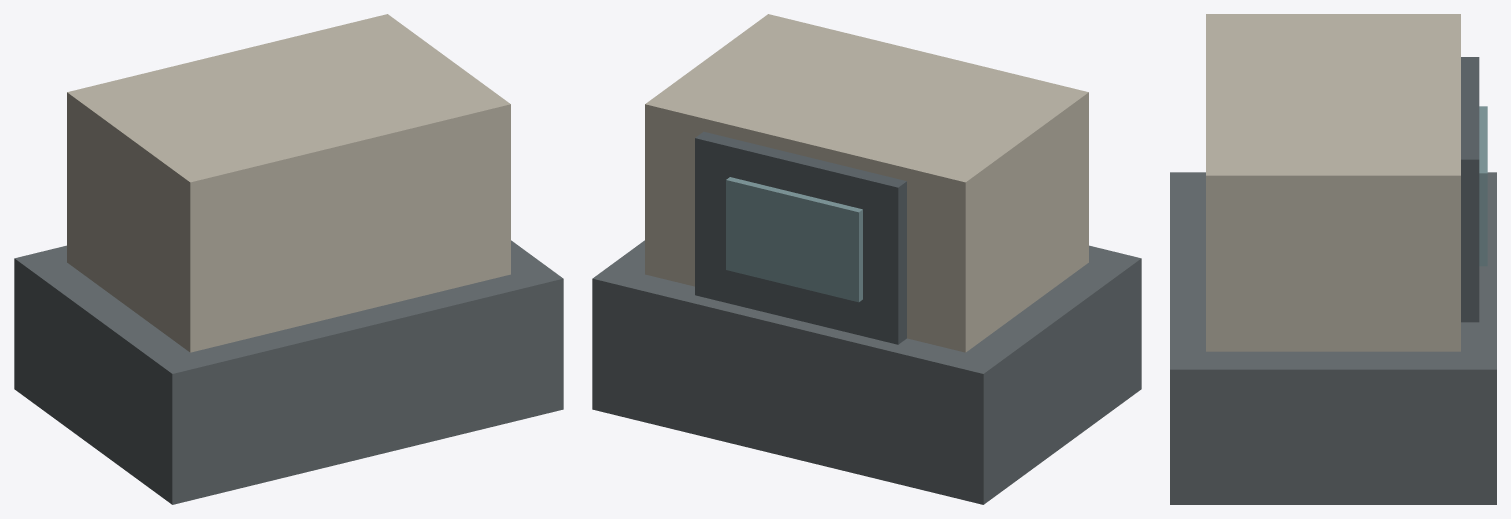
The model's file is iz3_military_crate_01.glb.
3 renders of one model, left to right at view 1: azimuth 30°, elevation 25°; view 2: azimuth 150°, elevation 25°; view 3: azimuth 270°, elevation 25°, orthographic. The views are drawn at different scales.
Visible parts, largest first — view 1: cabinet, base; view 2: base, cabinet, panel, display; view 3: cabinet, base, panel, display.
Boxes of the visible parts, left/top/right/bottom form: cabinet: left=67, top=14, right=510, bottom=352; base: left=14, top=240, right=563, bottom=504; base: left=592, top=240, right=1141, bottom=504; cabinet: left=645, top=14, right=1088, bottom=352; panel: left=695, top=131, right=906, bottom=344; display: left=726, top=177, right=862, bottom=302; cabinet: left=1206, top=14, right=1460, bottom=351; base: left=1170, top=172, right=1496, bottom=504; panel: left=1461, top=57, right=1479, bottom=322; display: left=1479, top=106, right=1487, bottom=266.
Size of the model in its own units: 1 by 0.736 by 0.7.
